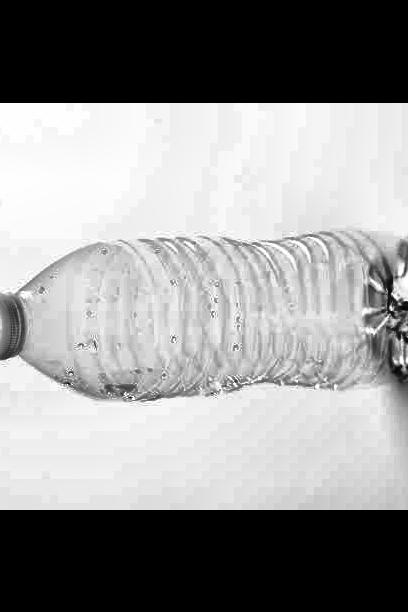waterbottle: (0, 175, 408, 433)
